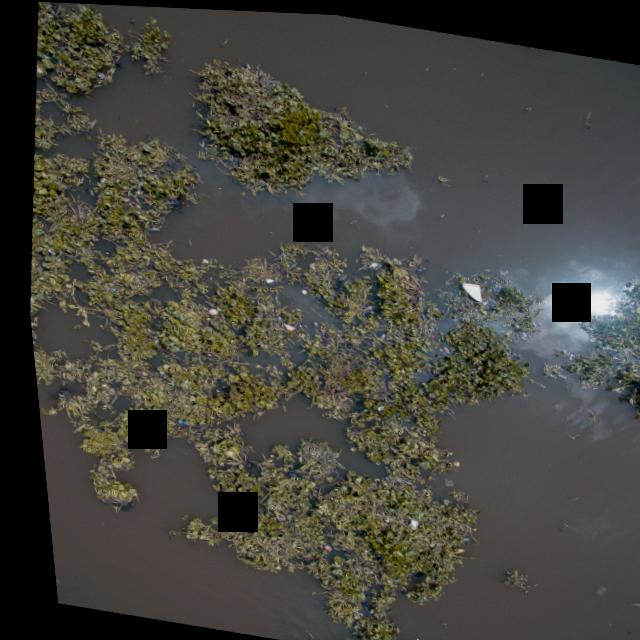plastic: (447, 273, 485, 304), (164, 412, 184, 428), (579, 577, 597, 594), (392, 512, 412, 527), (194, 304, 214, 317), (429, 471, 446, 485), (253, 273, 269, 285), (359, 255, 375, 267), (135, 222, 156, 231), (34, 50, 51, 60), (365, 399, 379, 410), (275, 320, 291, 329), (192, 255, 206, 264), (369, 327, 381, 337), (40, 246, 52, 256), (371, 510, 381, 521), (143, 336, 155, 344), (271, 636, 294, 640), (448, 531, 460, 538), (291, 285, 302, 292), (101, 285, 112, 292), (25, 334, 31, 341)
